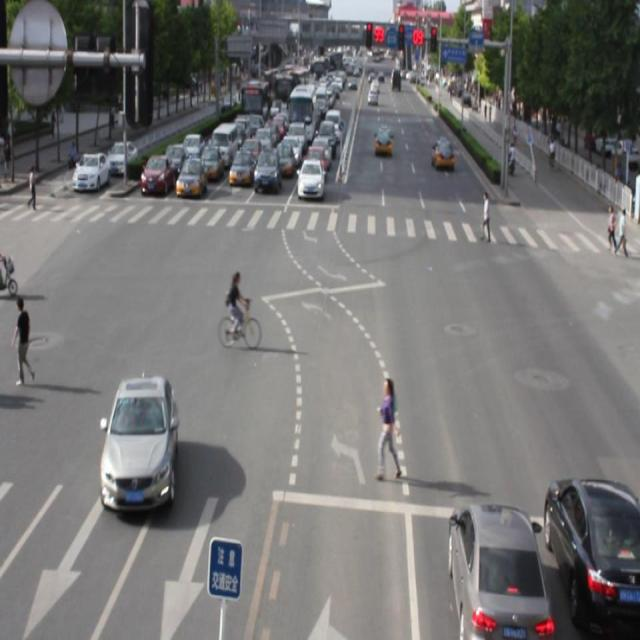car: (541, 481, 640, 631), (448, 503, 548, 640), (102, 373, 177, 512)
